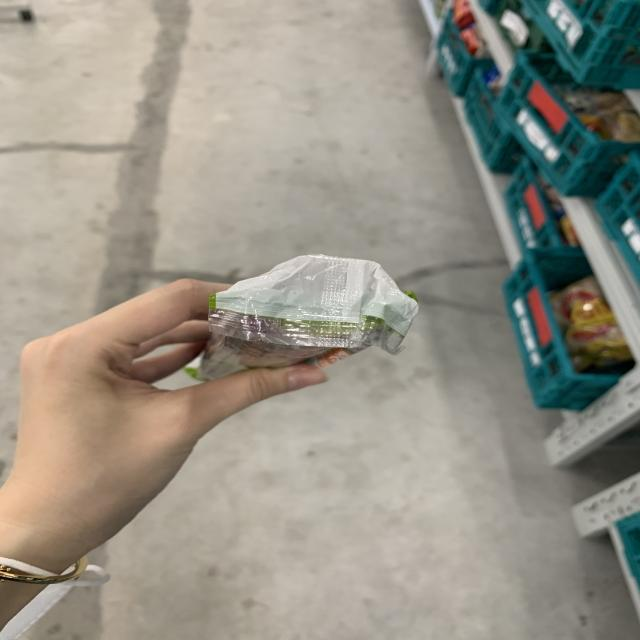object_name: (215, 253, 398, 371)
